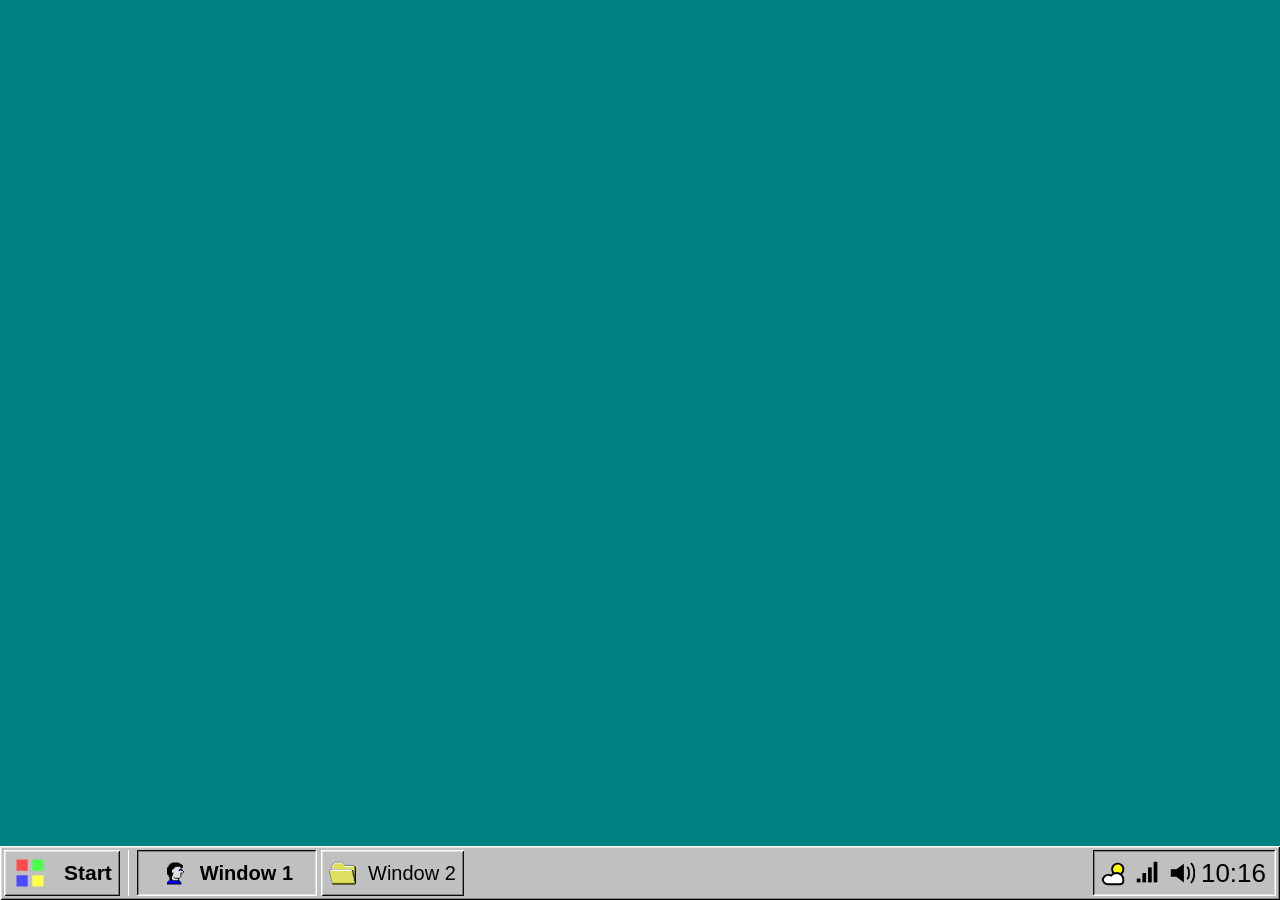
it: Taskbar › shows Minimize option when window is not minimized
Expected: the element with test id "taskbar" is shown, x1=0 y1=846 x2=1279 y2=899
Right-click the button "Window 2" at (392, 873), box x1=321 y1=850 x2=464 y2=896
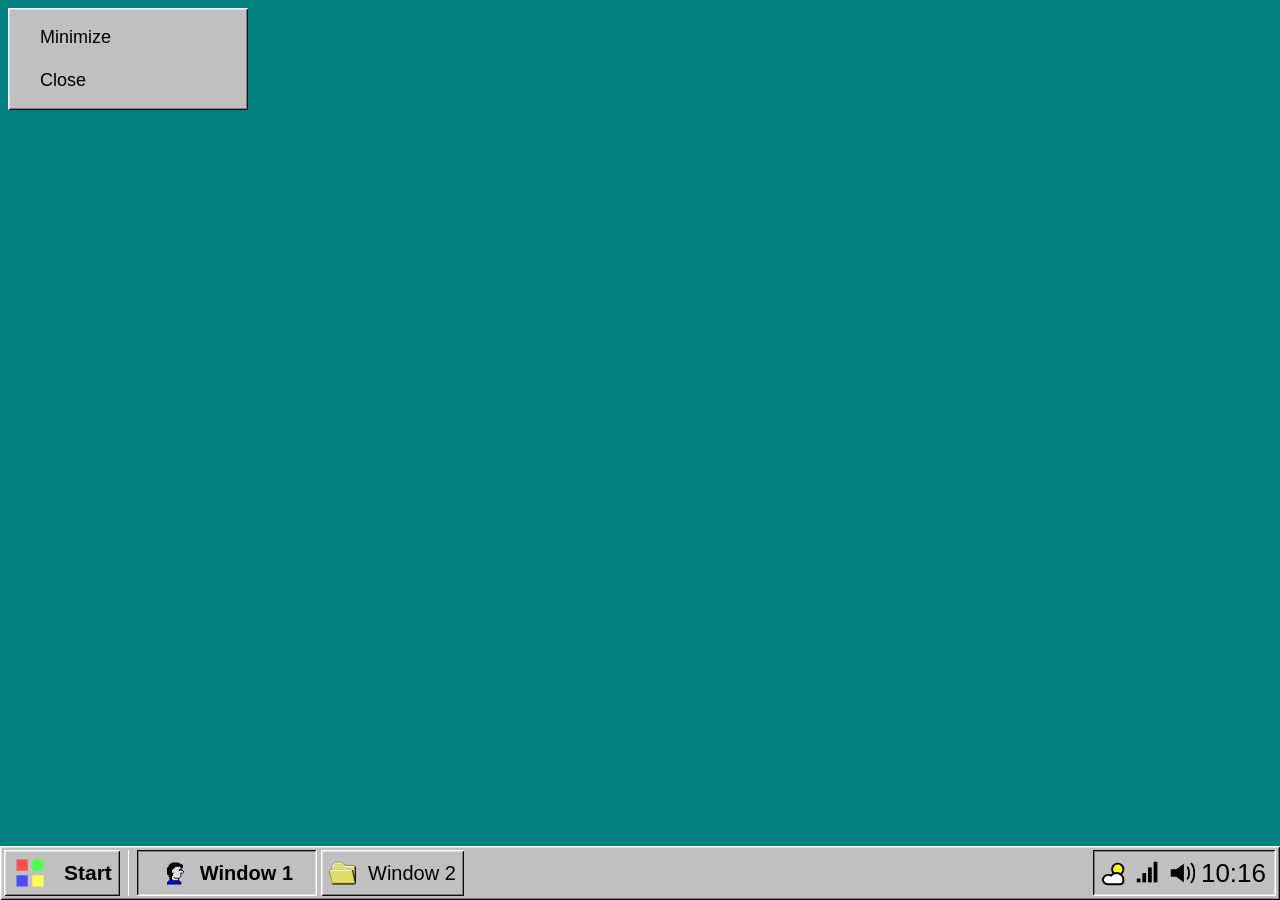
Expected: the button "Minimize" is shown, x1=8 y1=16 x2=248 y2=59
Expected: the button "Close" is shown, x1=8 y1=59 x2=248 y2=102
